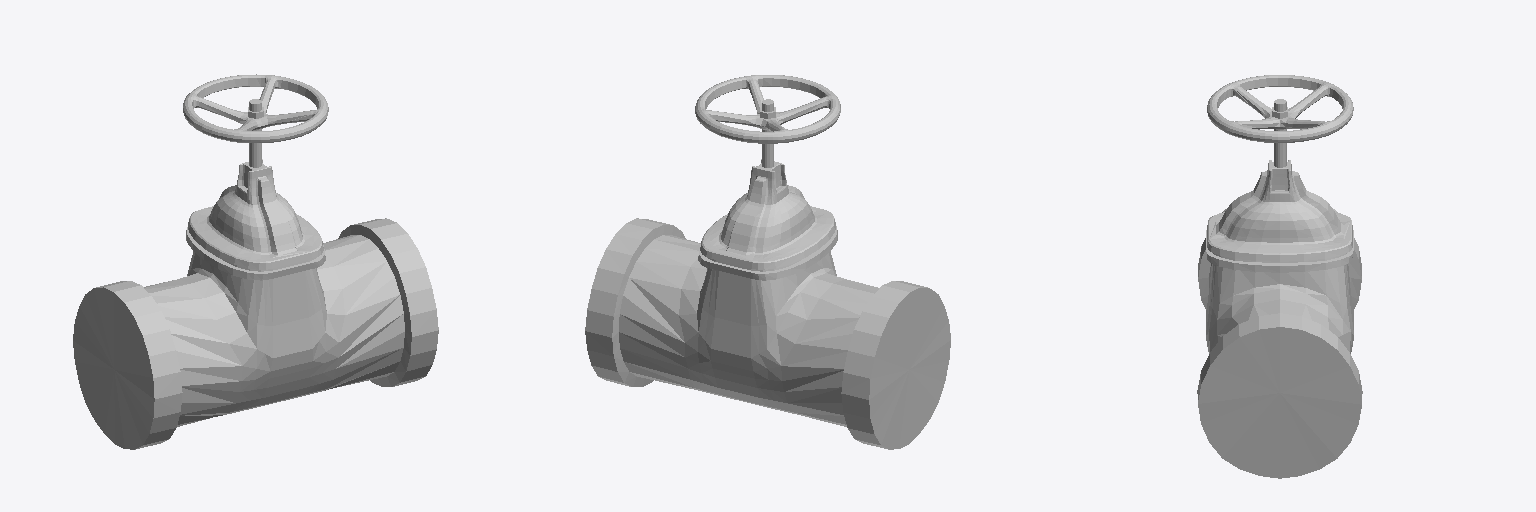
File: pipe_opening.obj
3 renders of one model, left to right at view 1: azimuth 30°, elevation 25°; view 2: azimuth 150°, elevation 25°; view 3: azimuth 270°, elevation 25°, orthographic.
Visible parts, largest first — view 1: Wellhead_1_Cube.010; view 2: Wellhead_1_Cube.010; view 3: Wellhead_1_Cube.010.
Part boxes in pixels (bbox=[...]): Wellhead_1_Cube.010: bbox=[73, 74, 438, 449]; Wellhead_1_Cube.010: bbox=[585, 75, 950, 449]; Wellhead_1_Cube.010: bbox=[1197, 75, 1362, 478].
Bounding box in the file's own units: 0.9989 × 1.03 × 0.502.